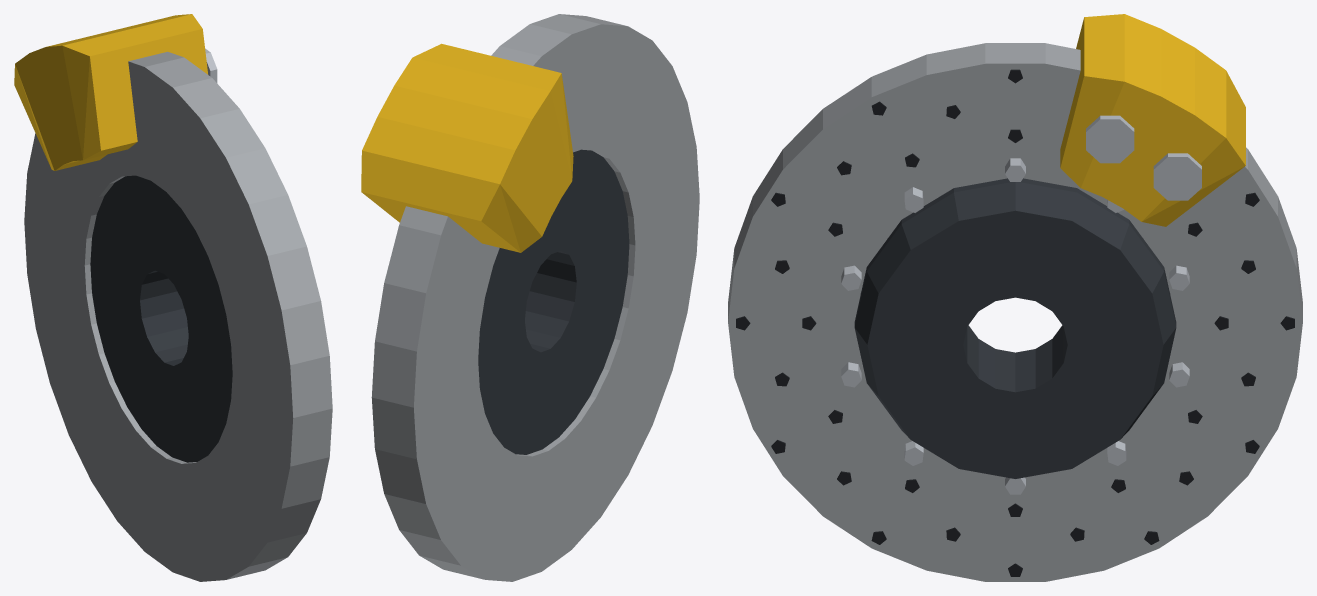
File: brakes_sport.glb
The picture shows the model from 3 angles, left to right: view 1: azimuth 30°, elevation 25°; view 2: azimuth 150°, elevation 25°; view 3: azimuth 270°, elevation 25°; orthographic projection. The views are drawn at different scales.
Visible parts, largest first — view 1: model; view 2: model; view 3: model.
Boxes of the visible parts, <box> form: model: <box>14,14,332,581</box>; model: <box>361,14,699,581</box>; model: <box>728,14,1302,581</box>.
Size of the model in its own units: 0.097 by 0.3325 by 0.33.
3 materials, 1 textured.
